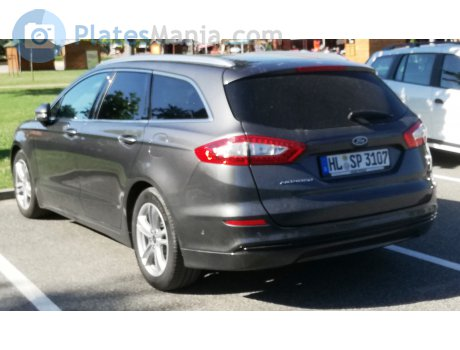License Plates: (327, 153, 387, 167)
